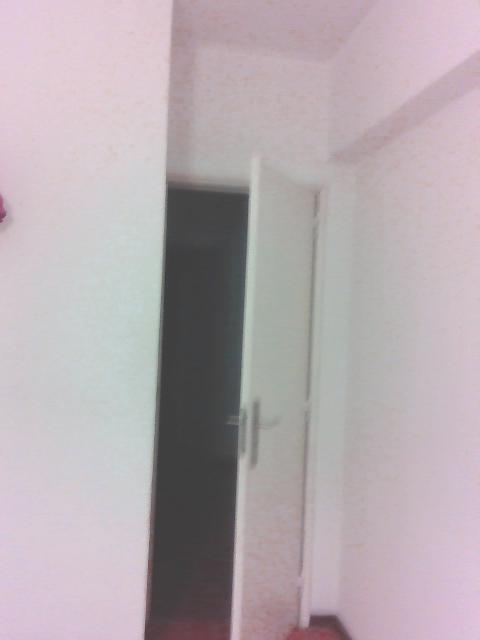semi_door: (138, 153, 327, 639)
